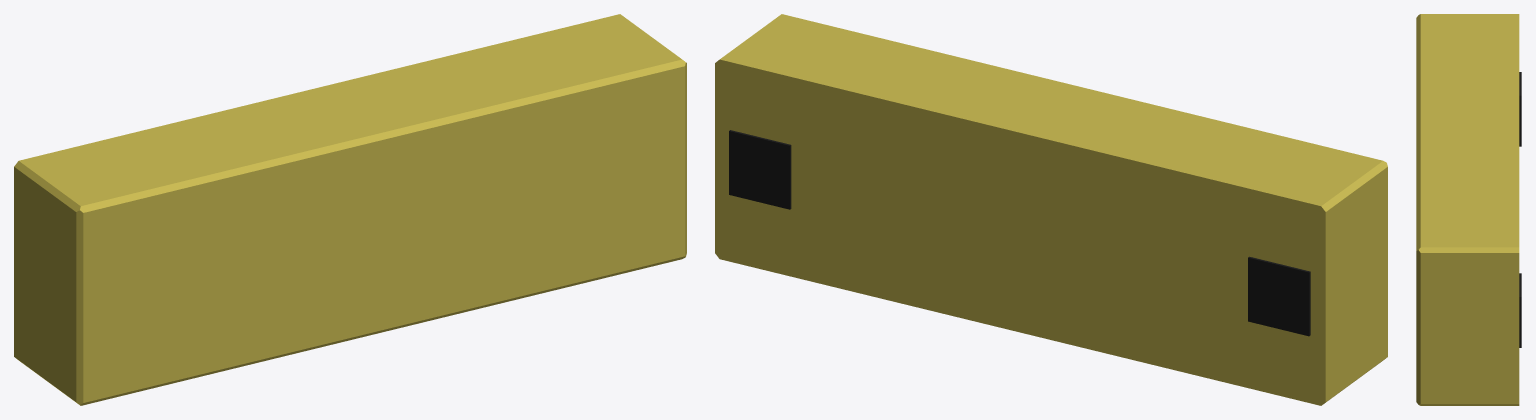
The model's file is payload_box_long.obj.
3 renders of one model, left to right at view 1: azimuth 30°, elevation 25°; view 2: azimuth 150°, elevation 25°; view 3: azimuth 270°, elevation 25°, orthographic. The views are drawn at different scales.
Visible parts, largest first — view 1: body; view 2: body, feet; view 3: body, feet.
Boxes of the visible parts, box(x1,y1,x2,y2) form: body: box(14, 14, 686, 405); body: box(715, 14, 1387, 405); feet: box(729, 130, 1310, 336); body: box(1416, 14, 1519, 405); feet: box(1519, 72, 1521, 347).
Size of the model in its own units: 0.8 by 0.25 by 0.15.
